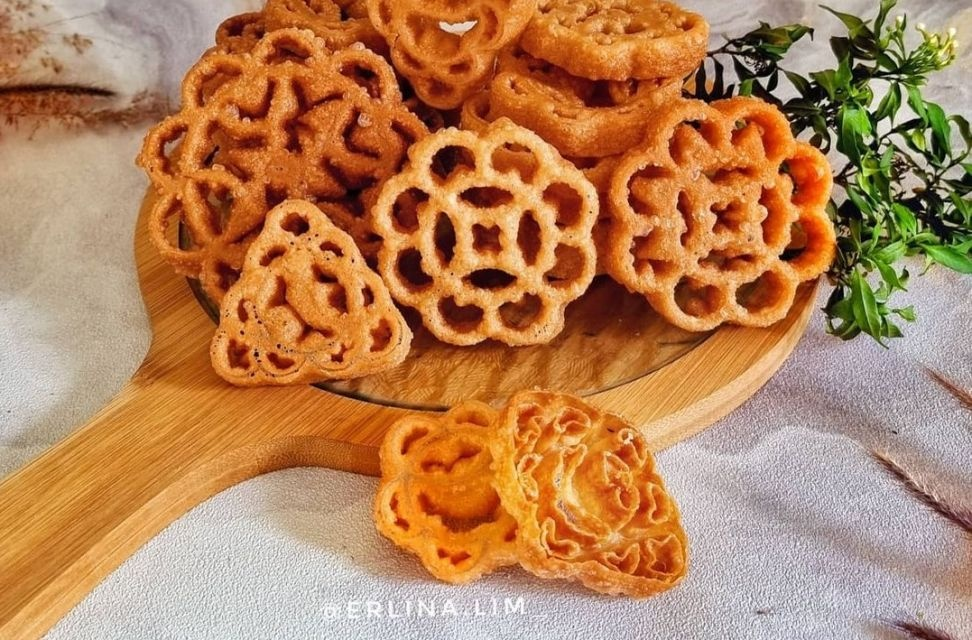kembang_goyang: (376, 113, 592, 351)
